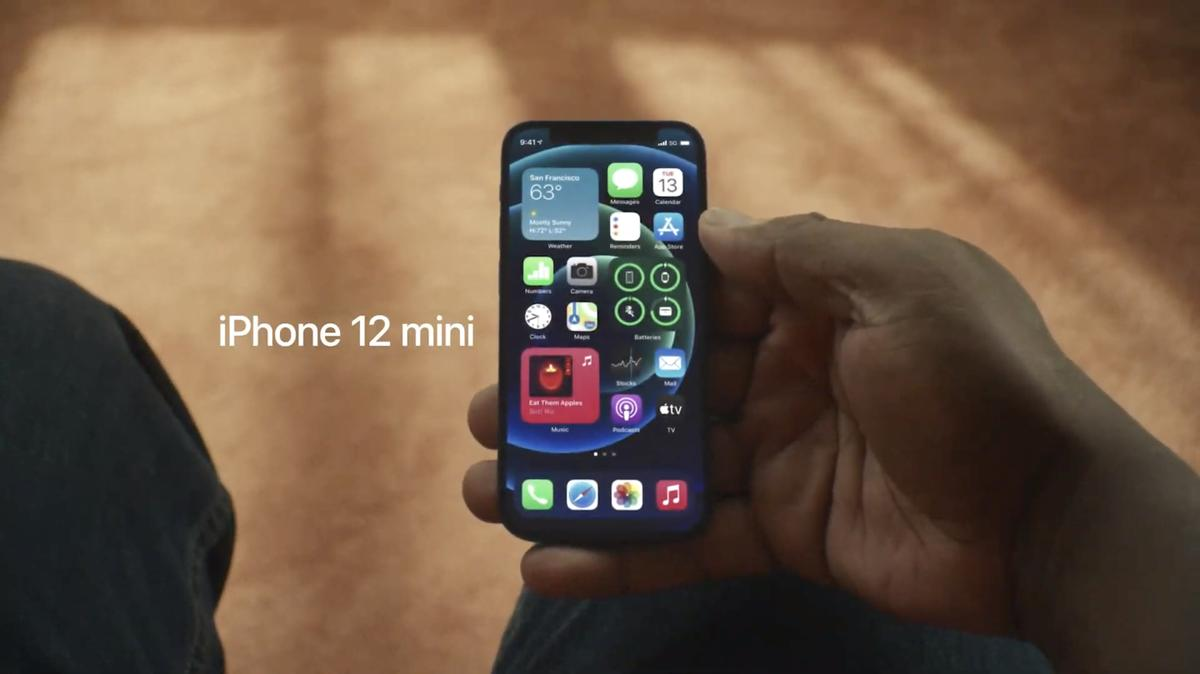-iphone12: (197, 83, 742, 568)
